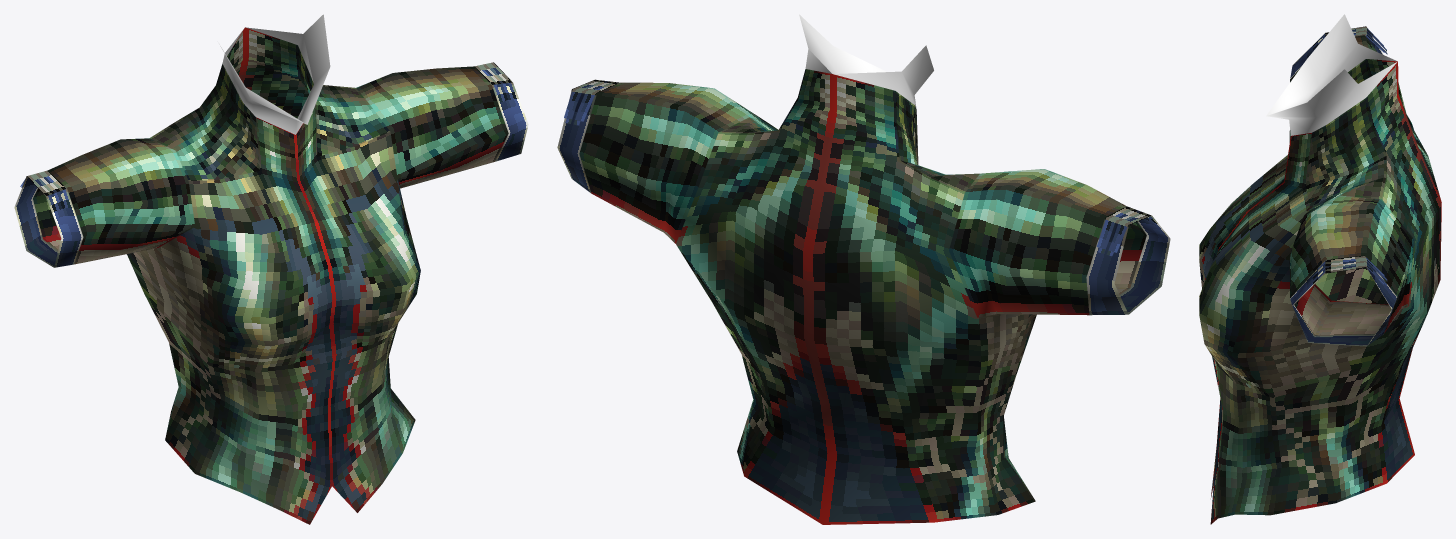
Rendered from f_body086.glb.
3 views of the same model, side by side, from view 1: azimuth 30°, elevation 25°; view 2: azimuth 150°, elevation 25°; view 3: azimuth 270°, elevation 25° (orthographic). The views are drawn at different scales.
Size of the model in its own units: 62.64 by 57.11 by 26.66.
2 materials, 1 textured.
